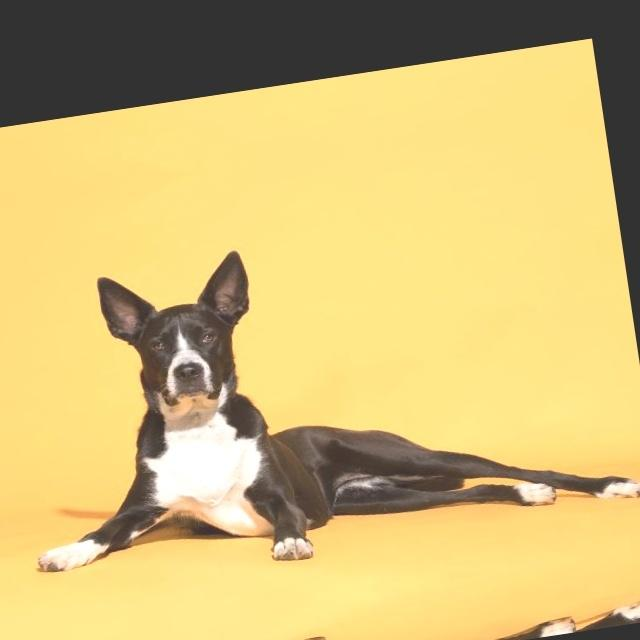dog: (2, 191, 596, 623), (0, 49, 524, 132), (57, 569, 608, 640)
